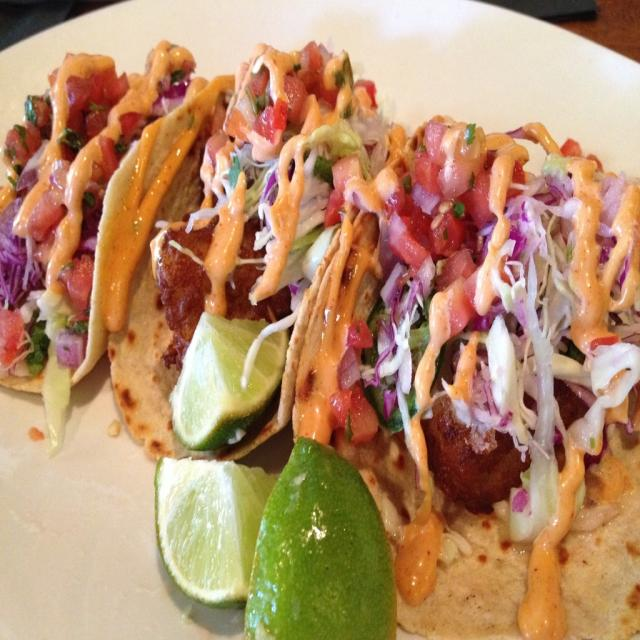Lemon: (242, 438, 396, 639), (153, 456, 278, 611), (169, 310, 291, 449)
